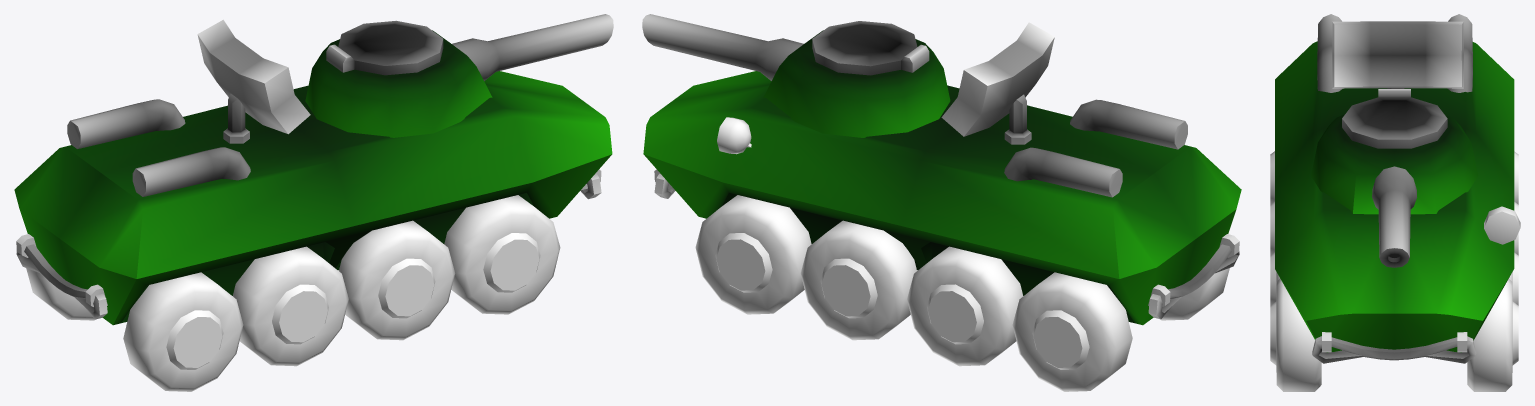
File: APC1_w.fbx
The picture shows the model from 3 angles, left to right: view 1: azimuth 30°, elevation 25°; view 2: azimuth 150°, elevation 25°; view 3: azimuth 270°, elevation 25°; orthographic projection. The views are drawn at different scales.
Visible parts, largest first — view 1: Tank4_Blue, Barrel2, TankAcc2; view 2: Tank4_Blue, Barrel2, TankAcc2; view 3: Tank4_Blue, Barrel2, TankAcc2.
Boxes of the visible parts, bbox=[...] form: Tank4_Blue: bbox=[14, 71, 612, 391]; Barrel2: bbox=[305, 14, 613, 137]; TankAcc2: bbox=[197, 19, 310, 143]; Tank4_Blue: bbox=[643, 71, 1241, 391]; Barrel2: bbox=[642, 14, 950, 137]; TankAcc2: bbox=[941, 22, 1054, 144]; Tank4_Blue: bbox=[1270, 14, 1520, 391]; Barrel2: bbox=[1311, 89, 1478, 267]; TankAcc2: bbox=[1332, 21, 1463, 88].
Size of the model in its own units: 60.24 by 28.5 by 23.98.
